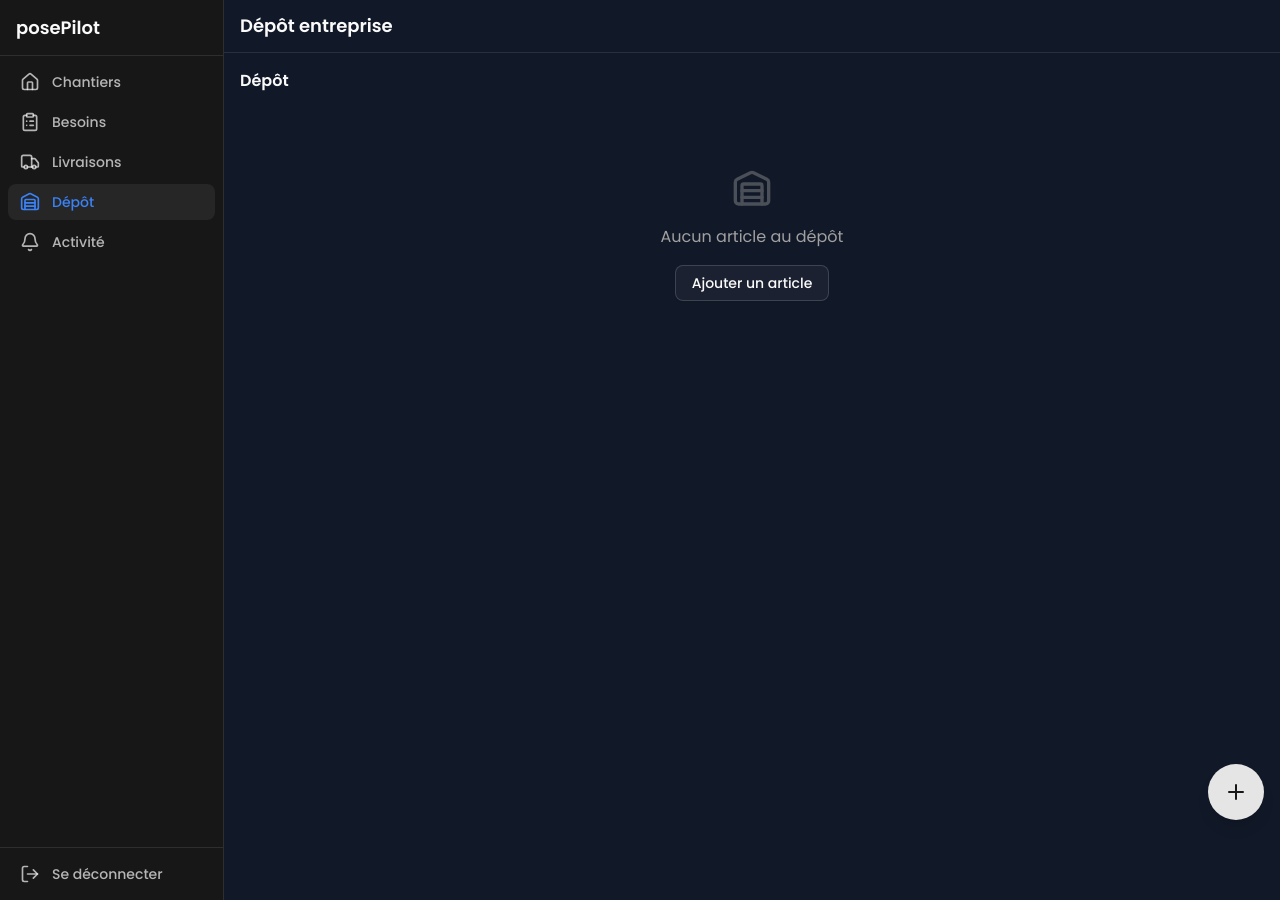
Test: DepotPage › opens creation sheet when FAB is clicked
Expected: the heading "Dépôt entreprise" is shown, [240,13,393,38]
Click the button named "Ajouter": (1236, 792) [1208,764,1264,820]
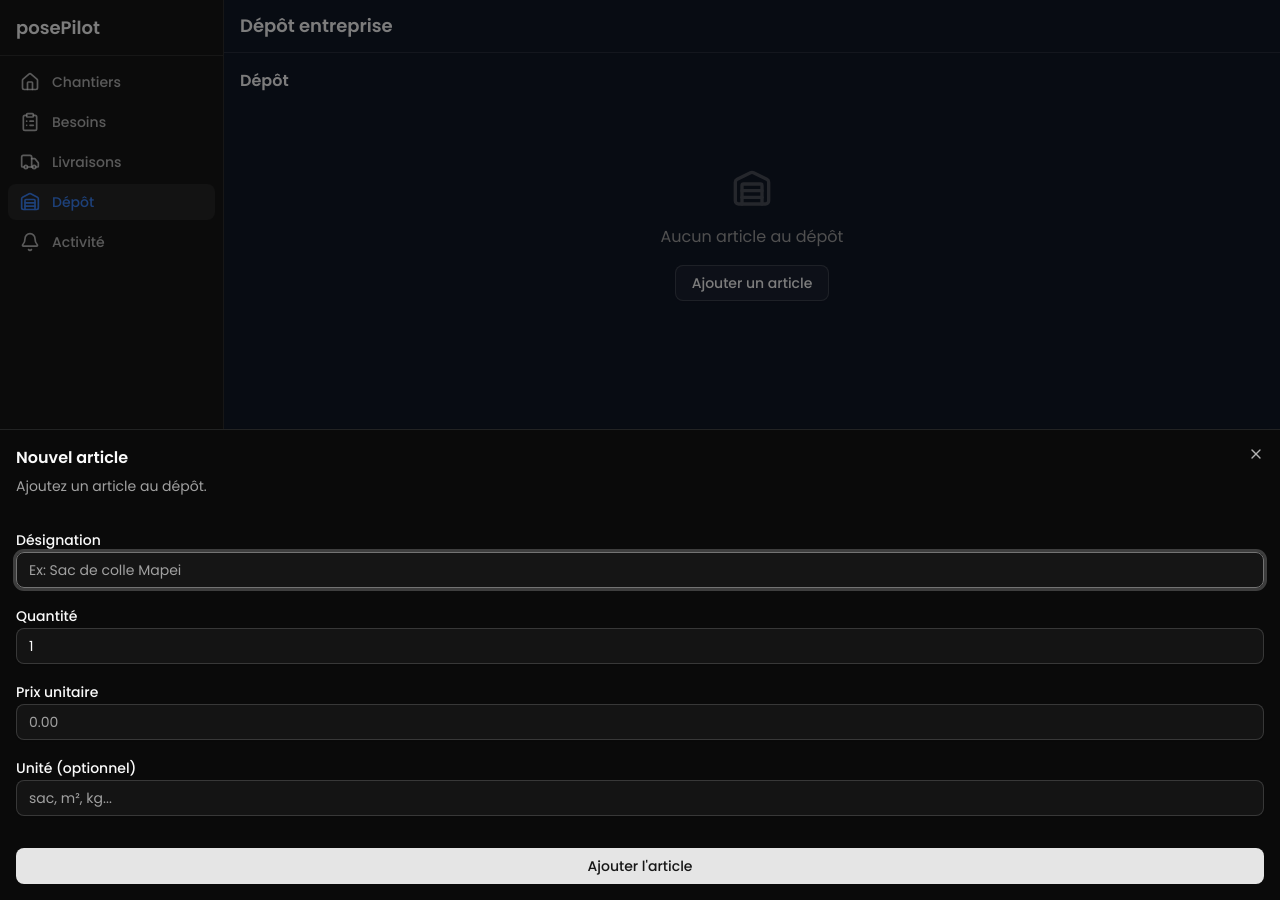
Expected: the heading "Nouvel article" is shown, [16,446,128,469]
Expected: the field labelled "Désignation" is shown, [16,552,1264,588]
Expected: the field labelled "Quantité" is shown, [16,628,1264,664]
